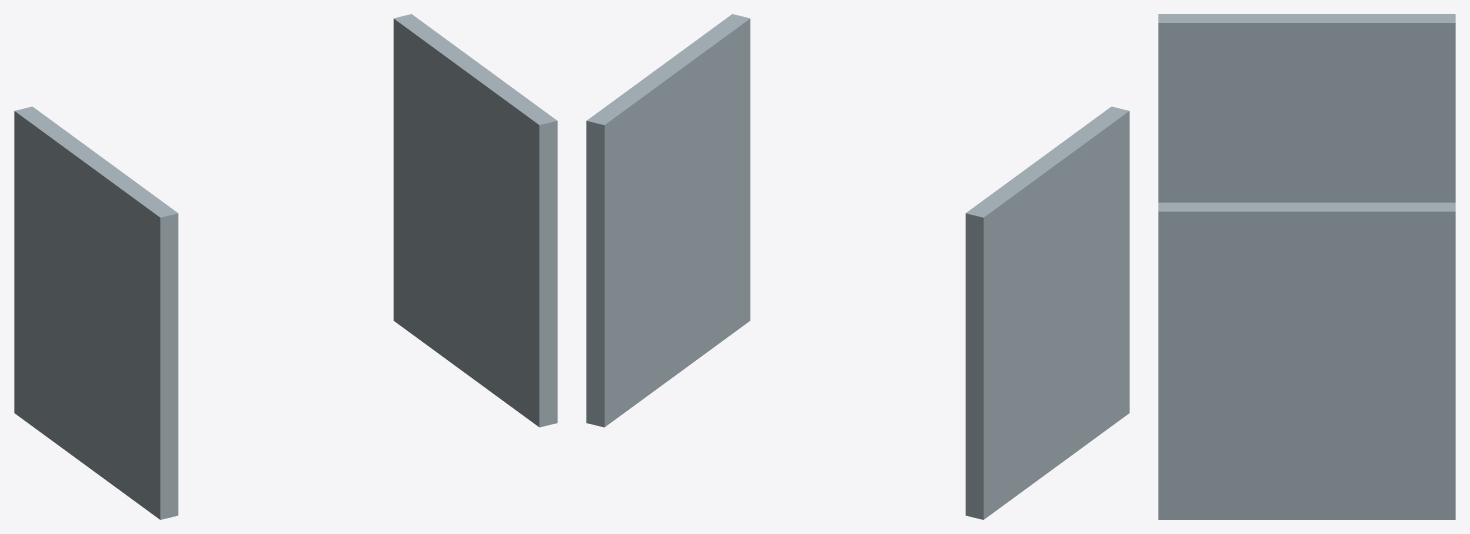
3 renders of one model, left to right at view 1: azimuth 30°, elevation 25°; view 2: azimuth 150°, elevation 25°; view 3: azimuth 270°, elevation 25°, orthographic.
Parts seen in each view (by area): view 1: B09_mesh (×2); view 2: B09_mesh (×2); view 3: B09_mesh (×2).
Part boxes in pixels (<box>): B09_mesh (×2): <box>14,14,557,519</box>; B09_mesh (×2): <box>586,14,1129,519</box>; B09_mesh (×2): <box>1158,14,1455,519</box>.
Bounding box in the file's own units: 0.22 × 0.16 × 0.14.
